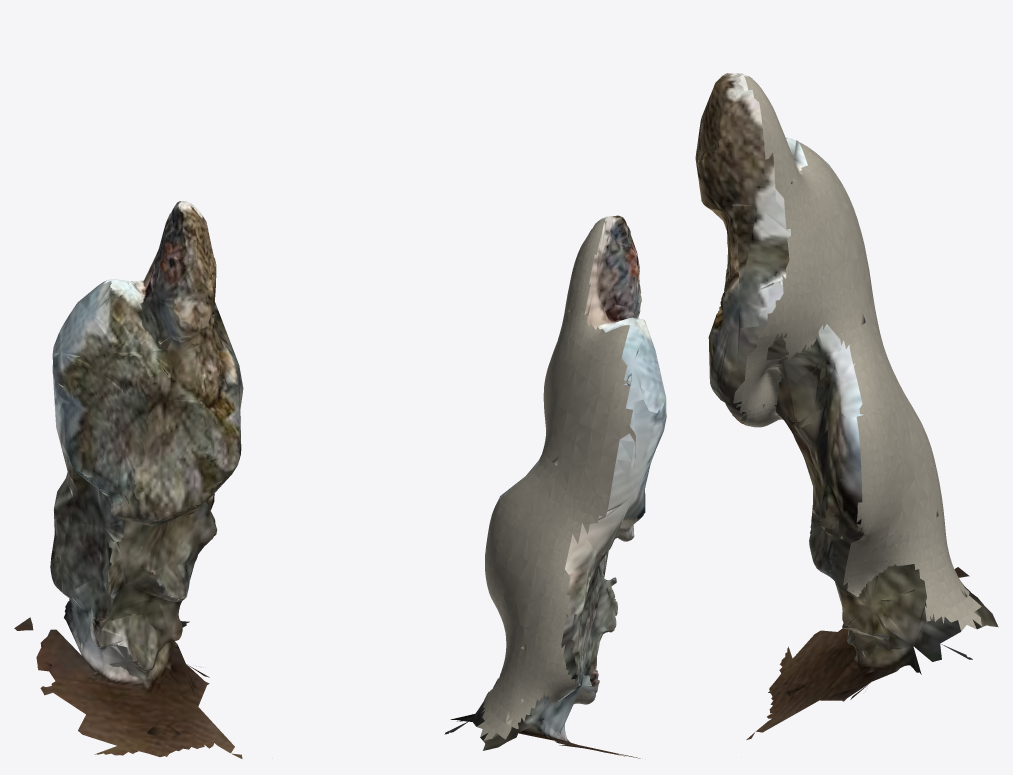
The model's file is nuffy.glb.
3 views of the same model, side by side, from view 1: azimuth 30°, elevation 25°; view 2: azimuth 150°, elevation 25°; view 3: azimuth 270°, elevation 25° (orthographic). The views are drawn at different scales.
Parts seen in each view (by area): view 1: nuffy; view 2: nuffy; view 3: nuffy.
Boxes of the visible parts, x1,y1,x2,y2 form: nuffy: (14,201,243,758); nuffy: (444,215,666,758); nuffy: (695,73,998,739).
Bounding box in the file's own units: 15.12 × 35.43 × 12.06.
Materials: 1 (1 with a texture image).
